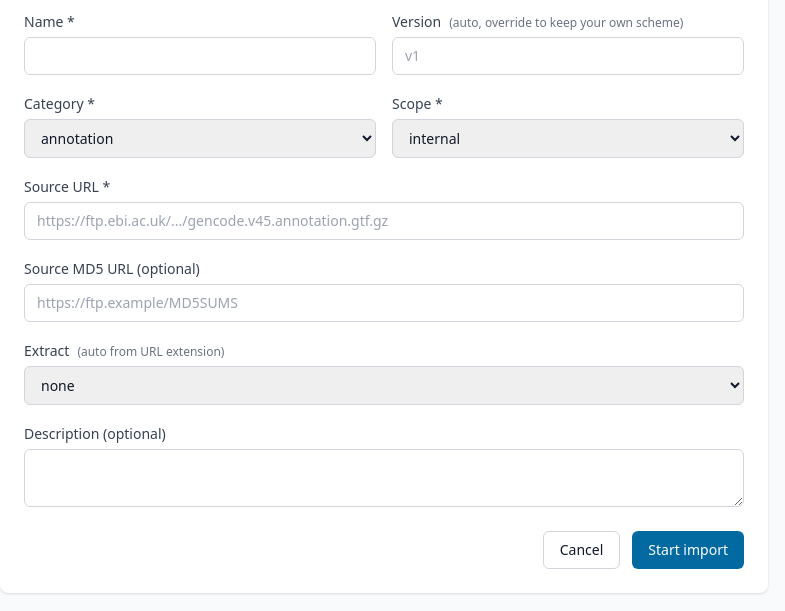
Scenario: UrlImportReferenceForm - auto-extract from URL › Selects extract='gzip' when the URL ends in .gz
The image size is (785, 611).
In the field labelled "Source URL *": (384, 221) [24,202,744,240], type "https://ftp.example.com/gencode.v45.annotation.gtf.gz"
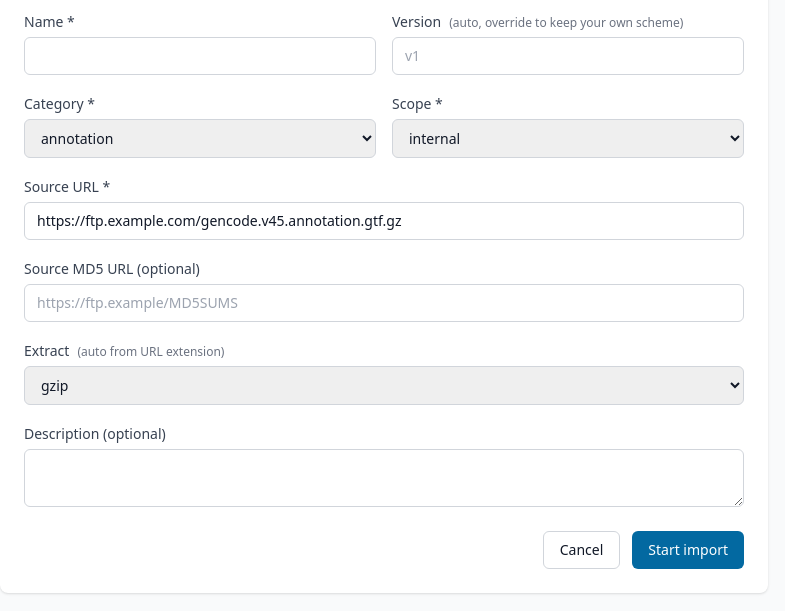
Expected: the dropdown labelled "Extract(auto from URL extension)" shows "gzip", [24,366,744,405]
